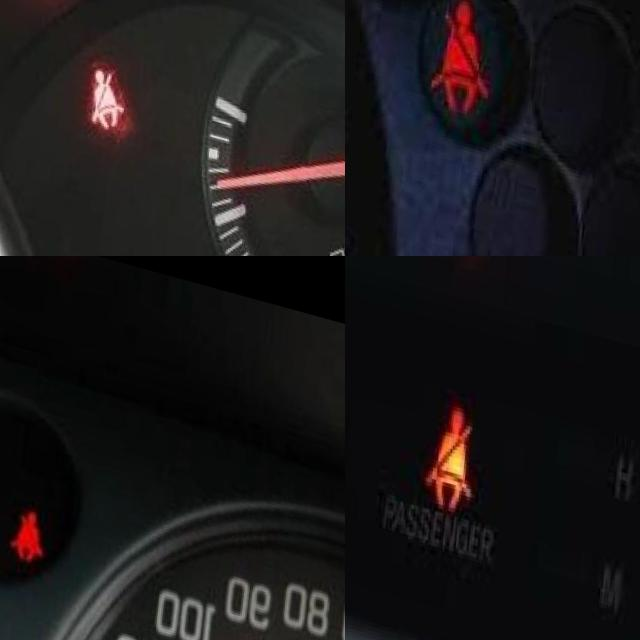Seat Belt: (436, 0, 505, 101), (433, 388, 489, 499), (88, 45, 133, 114), (16, 489, 55, 548)
